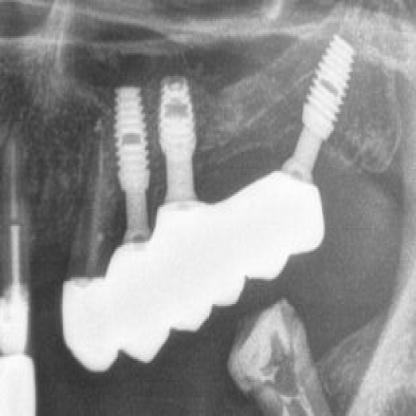Bicon: (282, 24, 366, 141), (99, 84, 156, 190), (156, 76, 208, 172)
